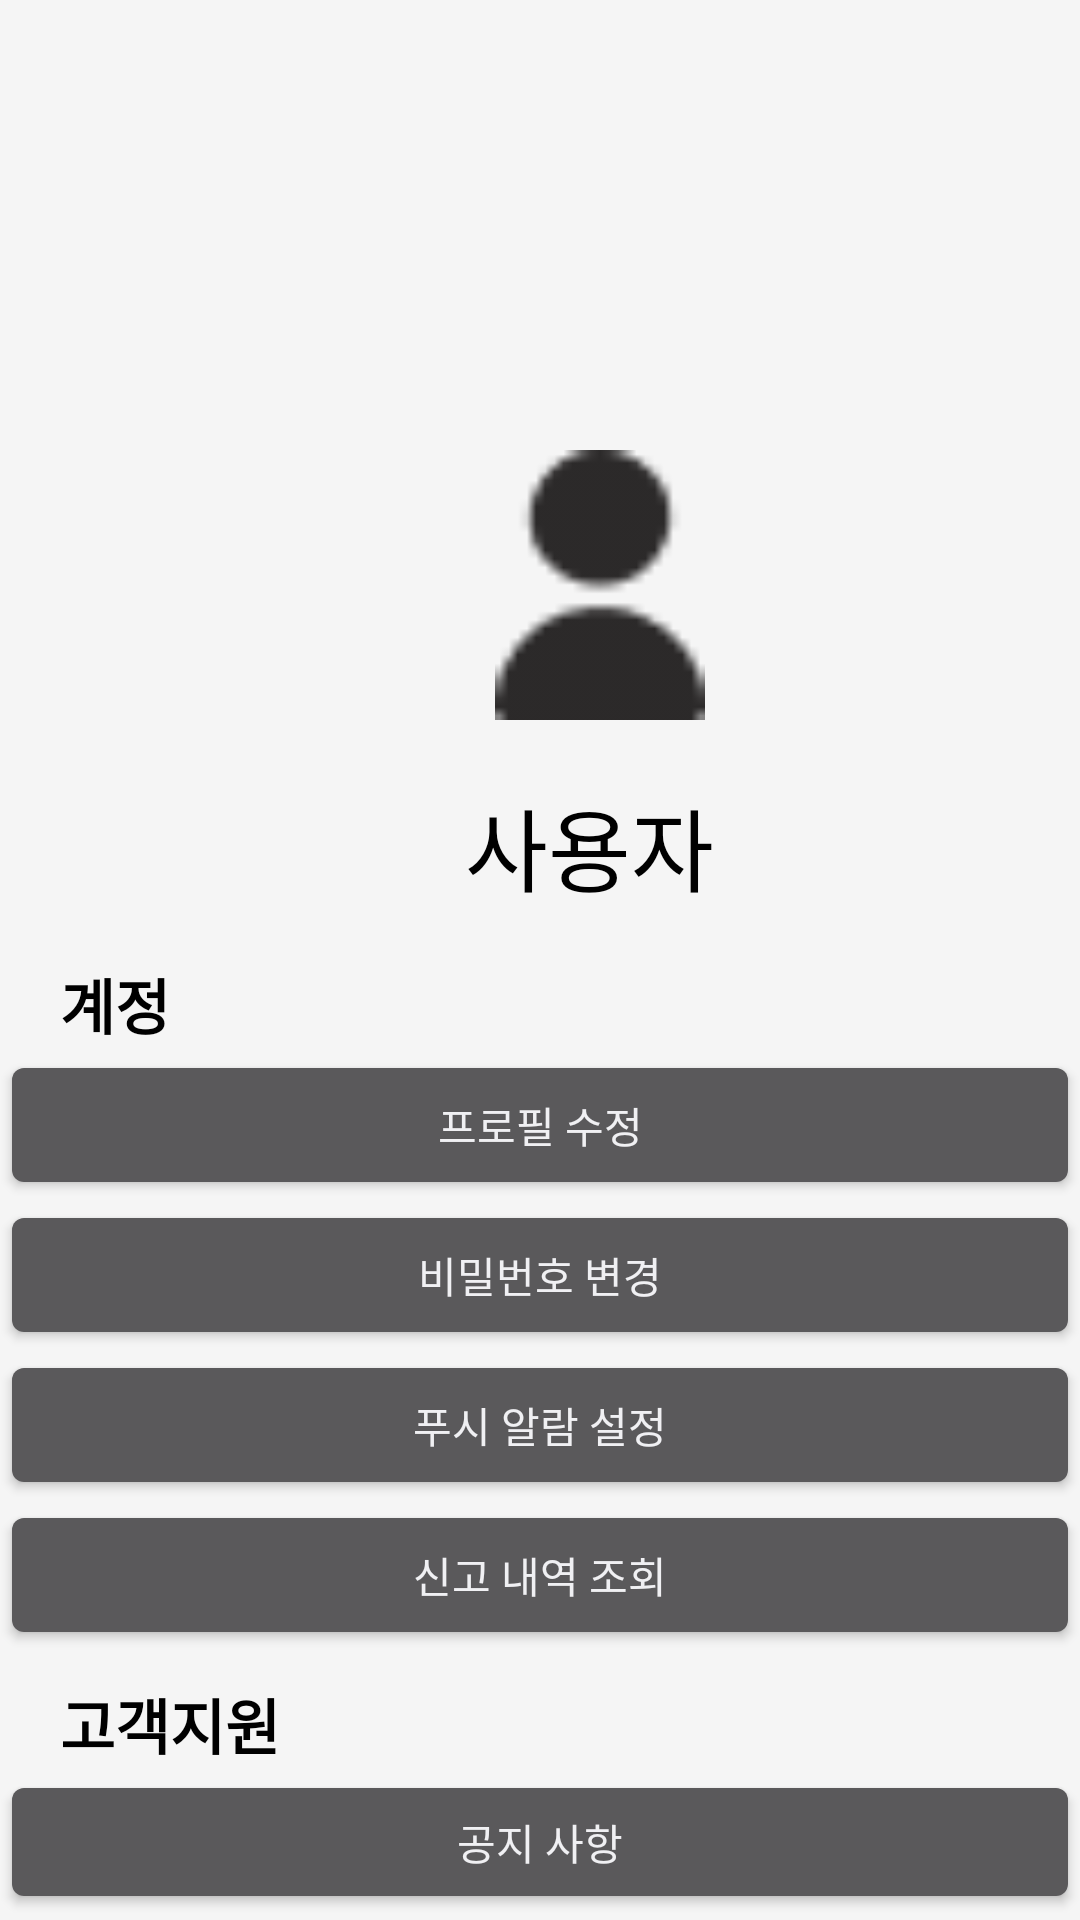

Where to tap for icons on this 1080×1920 app screen, as [x,y]:
people: [600,585]
